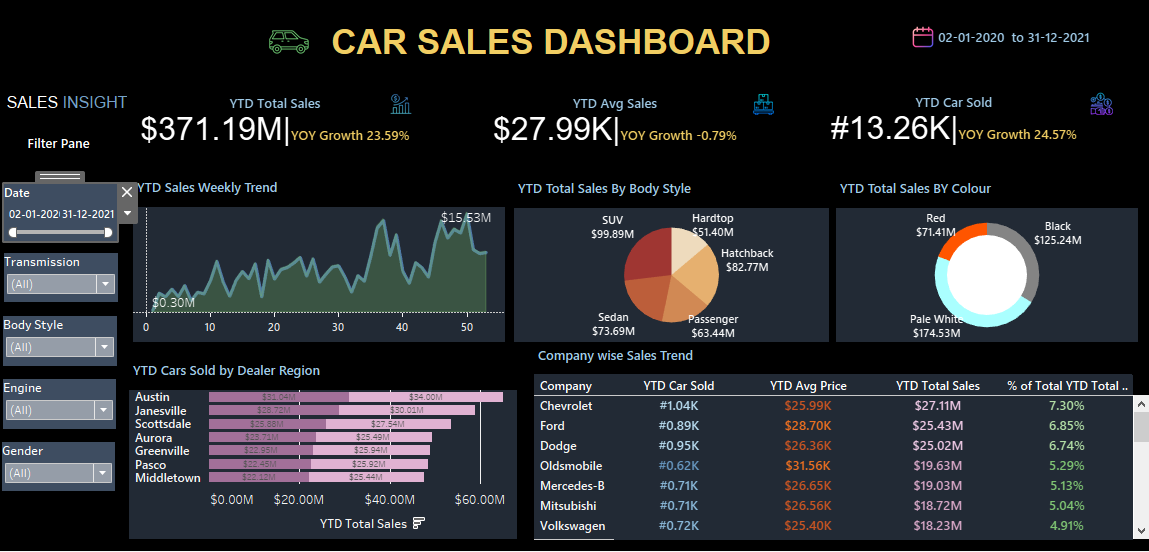

The dashboard page shown, as its layout file describes it:
{"tool":"tableau","page":{"name":"Dashboard 1","canvas":[1000,1000],"units":"permille","ordinal":0},"visuals":[{"type":"worksheet","title":"Sheet 9","mark":"Automatic","box":[763.9,18.1,231.9,101.5]},{"type":"image","param":"Image/Car Icon.png","box":[220,34.4,63.2,85.1]},{"type":"text","box":[273.4,34.4,410.5,88.8]},{"type":"image","param":"Image/calendar.png","box":[787.5,47.1,26.1,41.7]},{"type":"text","box":[5,161.2,106.3,54.4]},{"type":"worksheet","title":"YTD Total Sales","mark":"Automatic","box":[114.9,166.7,249.3,106.9]},{"type":"worksheet","title":"YTD Car Sold","mark":"Automatic","box":[686.6,166.7,282.3,103.3]},{"type":"image","param":"Image/Sales Icon.png","box":[333.9,168.5,29.4,41.7]},{"type":"image","param":"Image/Cars Sold Icon.png","box":[943.9,168.5,23.2,41.7]},{"type":"worksheet","title":"YTD Avg Price","mark":"Automatic","box":[390.9,170.3,284.9,101.5]},{"type":"image","param":"Image/Avg Price Icon.png","box":[650,170.3,24,39.9]},{"type":"text","box":[10,233.7,83.7,54.4]},{"type":"worksheet","title":"YTD Sales Weekly Trend","mark":"Area","rows":["Calculation_620933802075222016","Calculation_620933802075222016"],"cols":["Date"],"box":[117.5,317,317.9,304.4]},{"type":"worksheet","title":"YTD Total Sales By Body Style","mark":"Pie","box":[447,318.8,272.5,279]},{"type":"worksheet","title":"YTD Total Sales BY Colour","mark":"Pie","rows":["Calculation_620933802115420176","Calculation_620933802115420176"],"box":[725.7,318.8,260.9,280.8]},{"type":"filter","title":"YTD Sales Weekly Trend","param":"[federated.1q7iywx0noyb8b12t8f7z1xdm8el].[none:Date:qk]","box":[5.1,335.1,96.1,103.3]},{"type":"filter","title":"YTD Sales Weekly Trend","param":"[federated.1q7iywx0noyb8b12t8f7z1xdm8el].[none:Transmission:nk]","box":[5.1,460.1,98.7,88.8]},{"type":"filter","title":"YTD Sales Weekly Trend","param":"[federated.1q7iywx0noyb8b12t8f7z1xdm8el].[none:Body Style:nk]","box":[4.2,574.3,98.7,90.6]},{"type":"worksheet","title":"Company wise Sales Trend","mark":"Automatic","rows":["Company"],"box":[463.9,621.4,533.4,358.7]},{"type":"worksheet","title":"YTD Cars Sold by Dealer Region","mark":"Automatic","rows":["Dealer_Region"],"cols":["Calculation_620933802075222016"],"box":[113.1,648.6,336.6,329.7]},{"type":"filter","title":"YTD Sales Weekly Trend","param":"[federated.1q7iywx0noyb8b12t8f7z1xdm8el].[none:Engine:nk]","box":[4.2,688.4,97.8,90.6]},{"type":"filter","title":"YTD Sales Weekly Trend","param":"[federated.1q7iywx0noyb8b12t8f7z1xdm8el].[none:Gender:nk]","box":[3.4,802.5,97.8,88.8]}]}

Visuals, with their boxes on the dashboard's canvas, which has no fixed pixel size, in thousandths of its width and height (x1, y1, x2, y2). These are canvas units, not pixel positions in the 1149x552 screenshot, which may show the page scaled, cropped or inside an application window:
"Sheet 9" worksheet: (left=764, top=18, right=996, bottom=120)
image: (left=220, top=34, right=283, bottom=120)
text: (left=273, top=34, right=684, bottom=123)
image: (left=788, top=47, right=814, bottom=89)
text: (left=5, top=161, right=111, bottom=216)
"YTD Total Sales" worksheet: (left=115, top=167, right=364, bottom=274)
"YTD Car Sold" worksheet: (left=687, top=167, right=969, bottom=270)
image: (left=334, top=168, right=363, bottom=210)
image: (left=944, top=168, right=967, bottom=210)
"YTD Avg Price" worksheet: (left=391, top=170, right=676, bottom=272)
image: (left=650, top=170, right=674, bottom=210)
text: (left=10, top=234, right=94, bottom=288)
"YTD Sales Weekly Trend" worksheet (Area marks): (left=118, top=317, right=435, bottom=621)
"YTD Total Sales By Body Style" worksheet (Pie marks): (left=447, top=319, right=720, bottom=598)
"YTD Total Sales BY Colour" worksheet (Pie marks): (left=726, top=319, right=987, bottom=600)
"YTD Sales Weekly Trend" filter: (left=5, top=335, right=101, bottom=438)
"YTD Sales Weekly Trend" filter: (left=5, top=460, right=104, bottom=549)
"YTD Sales Weekly Trend" filter: (left=4, top=574, right=103, bottom=665)
"Company wise Sales Trend" worksheet: (left=464, top=621, right=997, bottom=980)
"YTD Cars Sold by Dealer Region" worksheet: (left=113, top=649, right=450, bottom=978)
"YTD Sales Weekly Trend" filter: (left=4, top=688, right=102, bottom=779)
"YTD Sales Weekly Trend" filter: (left=3, top=802, right=101, bottom=891)
